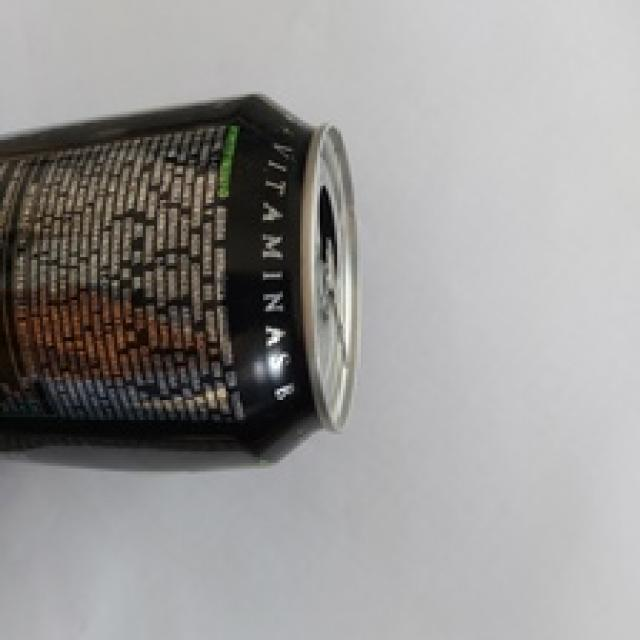recyclable: (0, 91, 357, 466)
